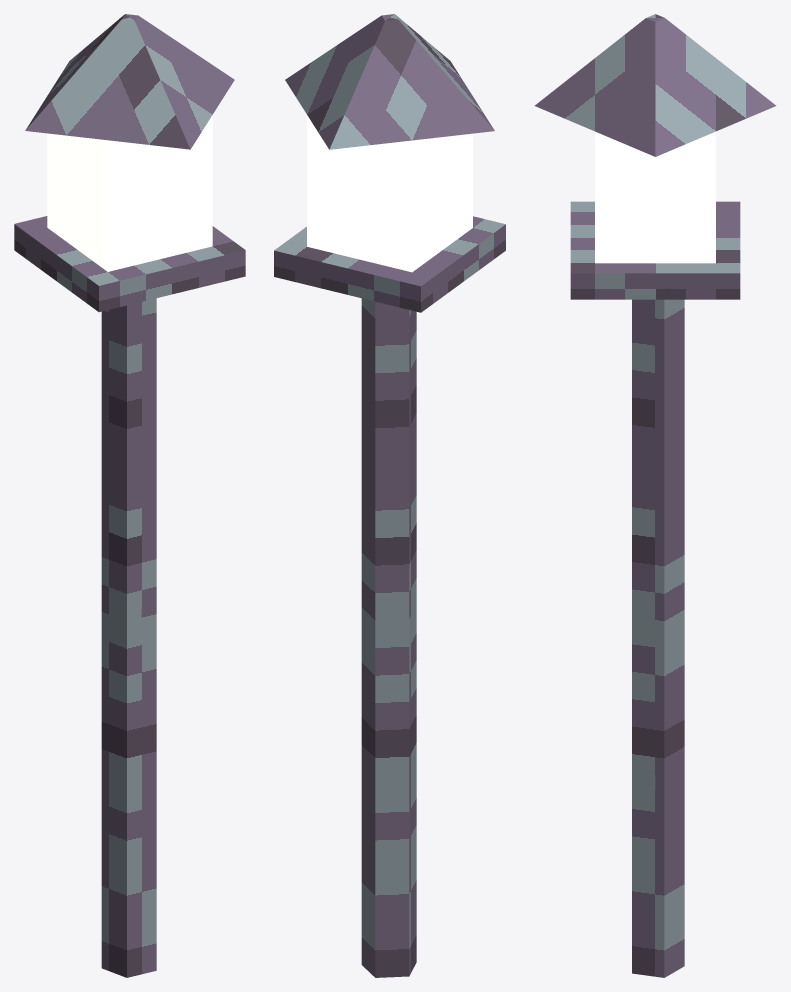
Rendered from r02_lanterna.glb.
3 views of the same model, side by side, from view 1: azimuth 30°, elevation 25°; view 2: azimuth 150°, elevation 25°; view 3: azimuth 270°, elevation 25° (orthographic).
Parts seen in each view (by area): view 1: r02_lanterna; view 2: r02_lanterna; view 3: r02_lanterna.
Part boxes in pixels (x1,y1,x2,y2): r02_lanterna: (14,14,245,977); r02_lanterna: (274,14,505,977); r02_lanterna: (534,14,776,977).
Bounding box in the file's own units: 0.5 × 2.16 × 0.5.
2 materials, 1 textured.
